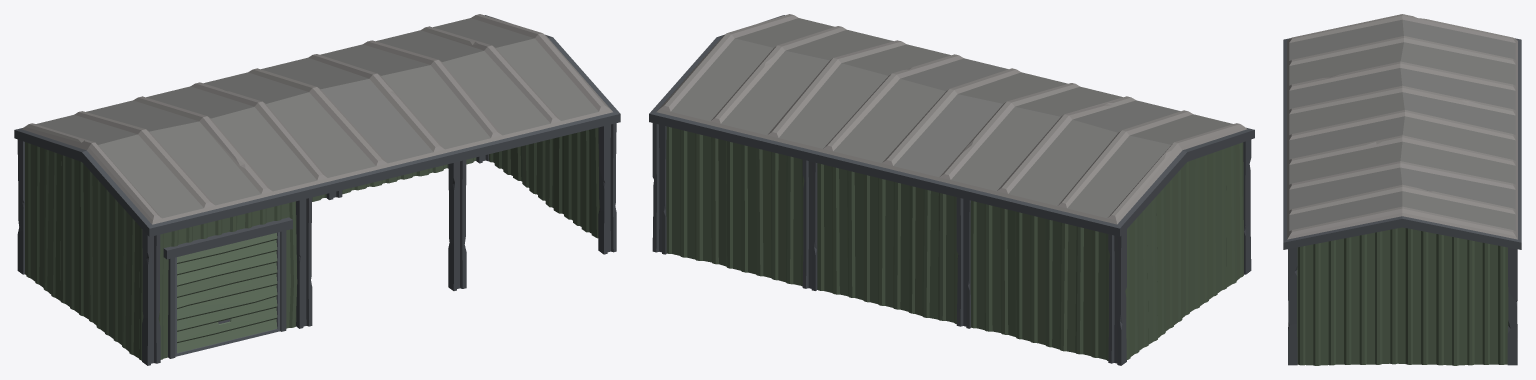
File: SM_Bld_Garage_01.glb
3 renders of one model, left to right at view 1: azimuth 30°, elevation 25°; view 2: azimuth 150°, elevation 25°; view 3: azimuth 270°, elevation 25°, orthographic. The views are drawn at different scales.
Visible parts, largest first — view 1: SM_Bld_Garage_01, SM_Bld_Garage_01_Door; view 2: SM_Bld_Garage_01; view 3: SM_Bld_Garage_01.
Part boxes in pixels (bbox=[...]): SM_Bld_Garage_01: bbox=[14, 14, 620, 365]; SM_Bld_Garage_01_Door: bbox=[175, 232, 280, 356]; SM_Bld_Garage_01: bbox=[649, 14, 1254, 365]; SM_Bld_Garage_01: bbox=[1283, 14, 1521, 365].
Size of the model in its own units: 13.89 by 4.87 by 6.88.
Materials: 2 (2 with a texture image).
